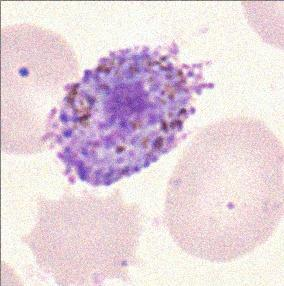Infected: (42, 37, 215, 188)
Uninfected: (168, 115, 284, 263), (24, 186, 150, 286)
